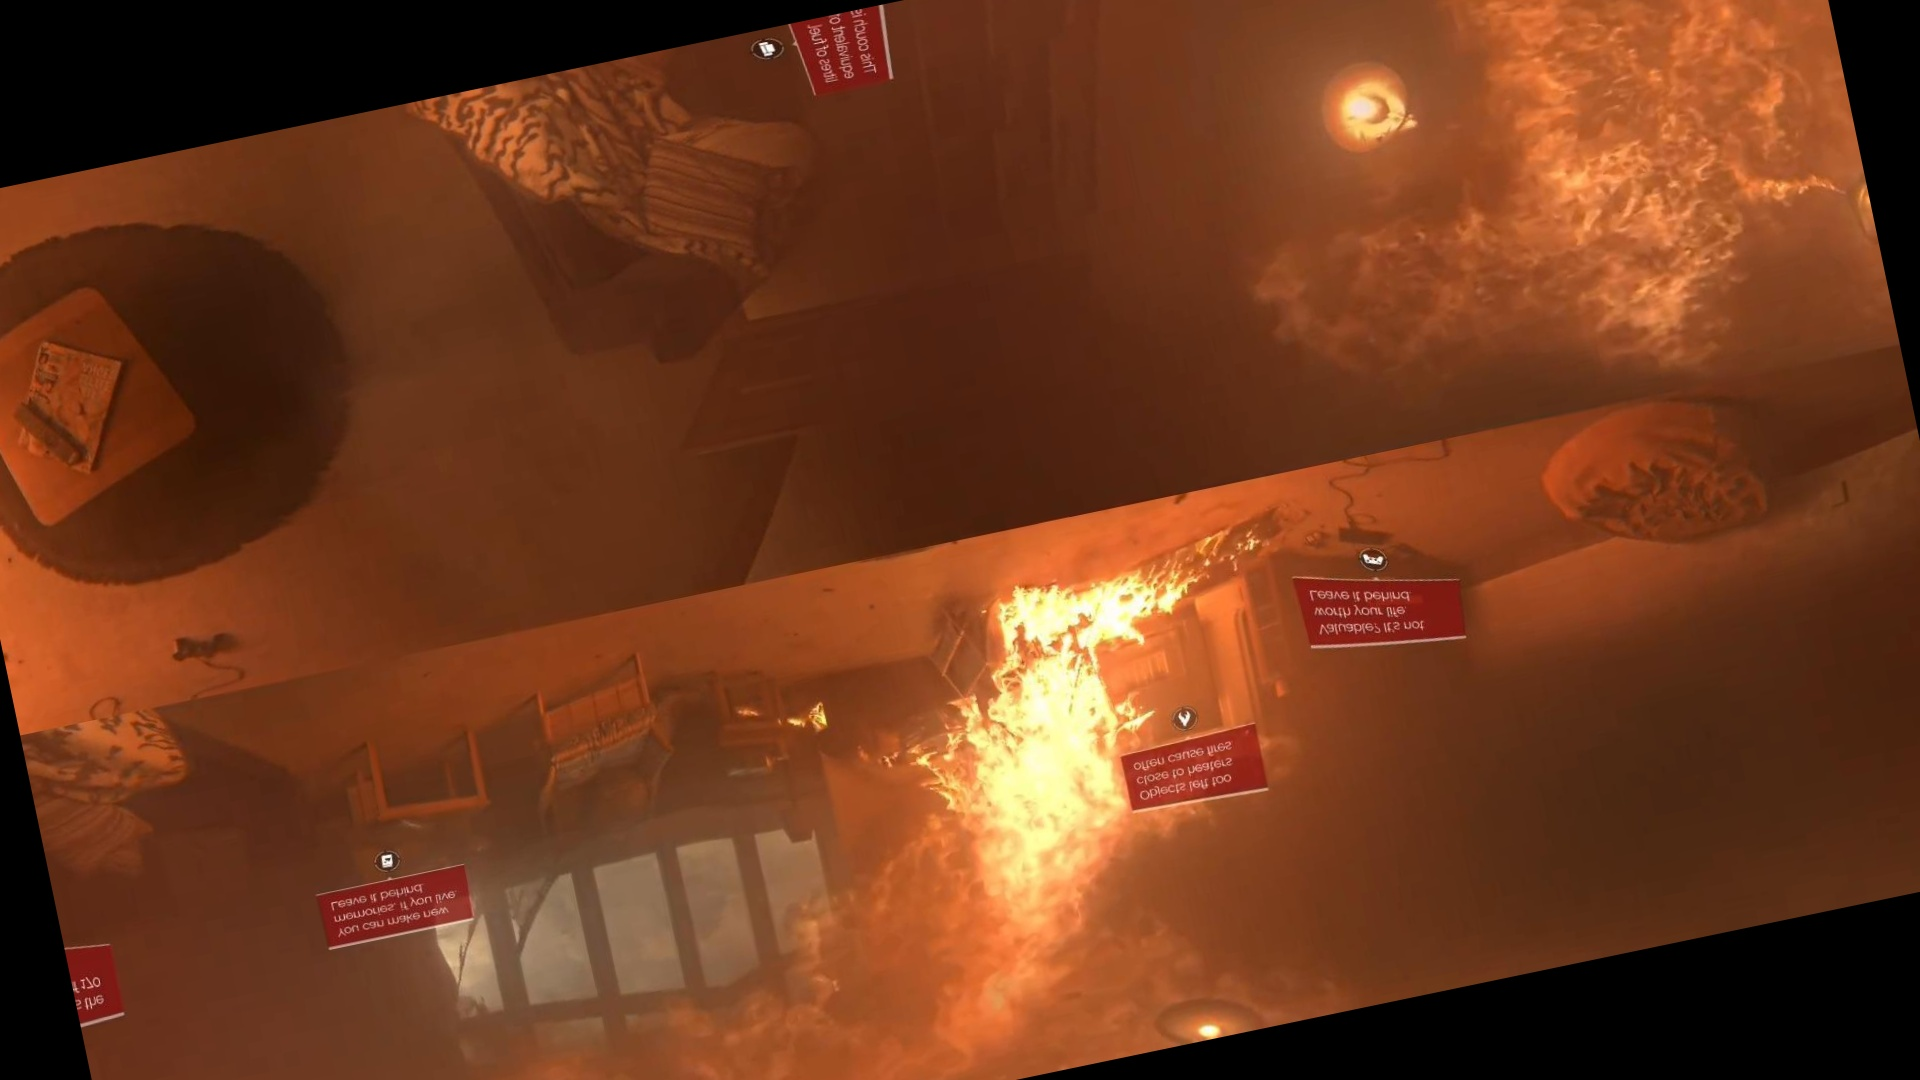fire: (827, 556, 1253, 1080)
